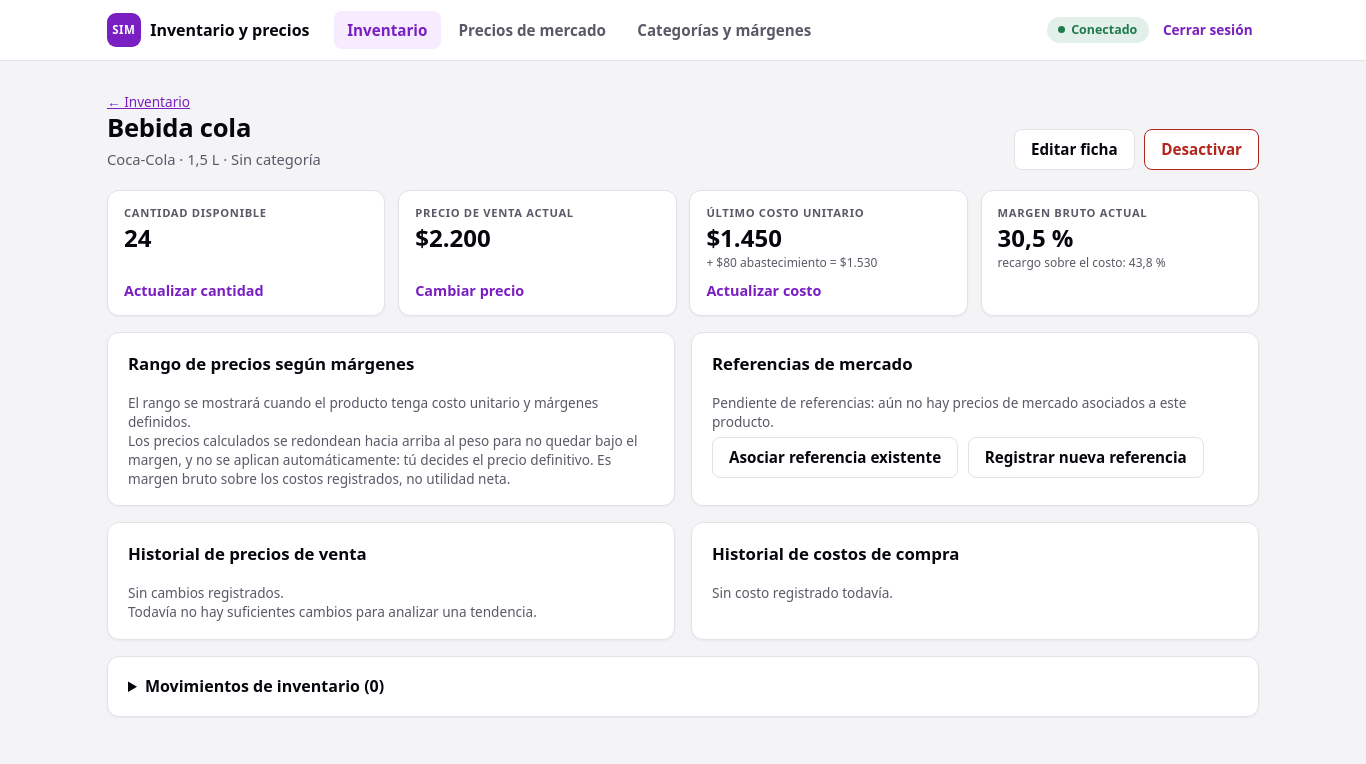
pantallas › si la sesión vence al guardar, avisa que el cambio no se guardó (H-11)
Click the button "Cambiar precio": (470, 288) [415,274,524,301]
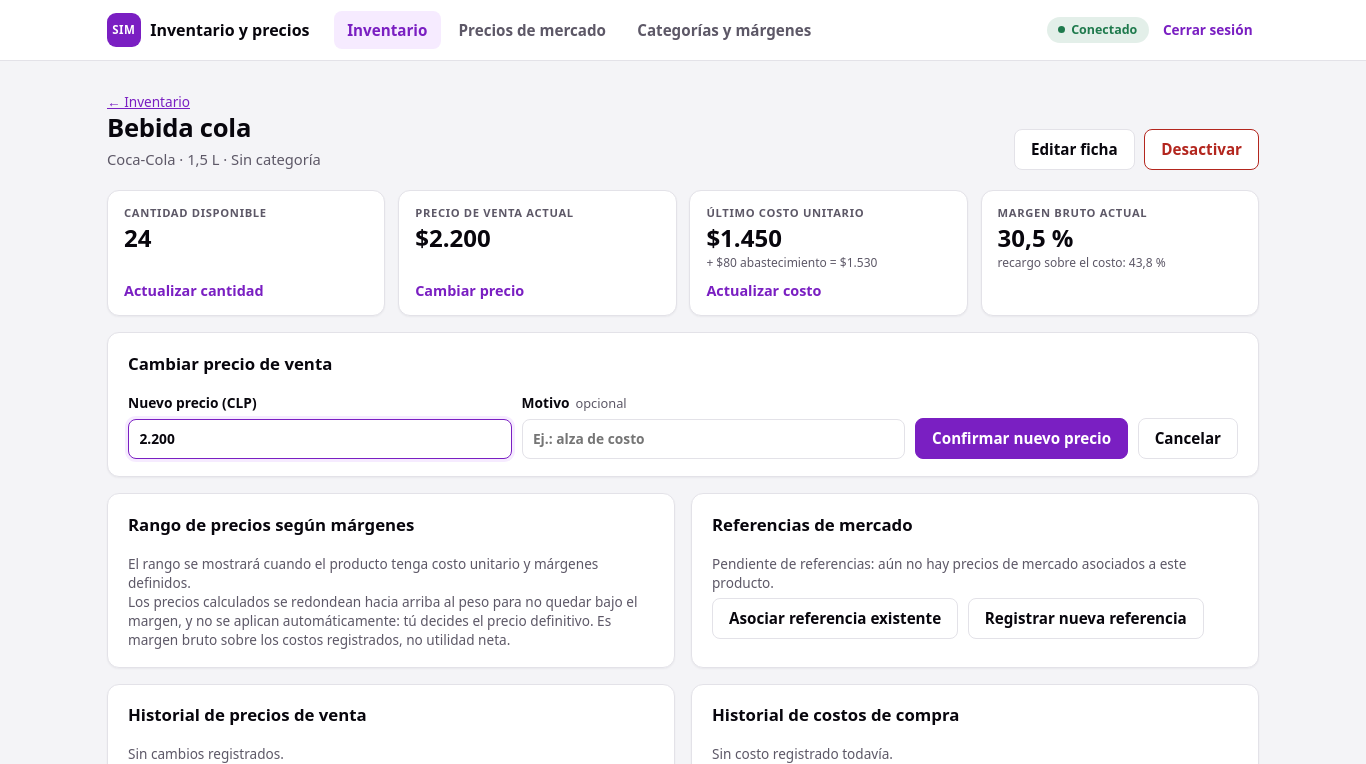
Replace the text in the field labelled "Nuevo precio (CLP)" with "2.300": (320, 439) [128,419,512,459]
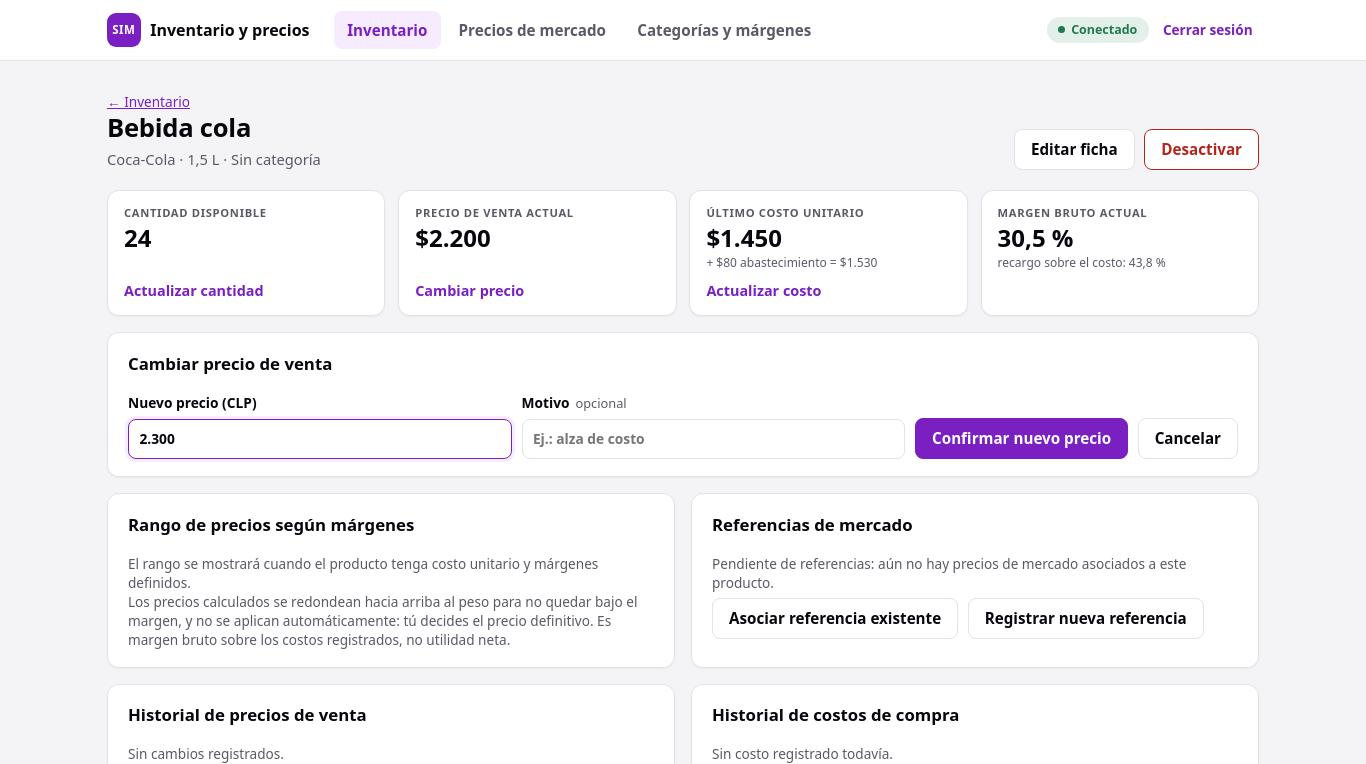
Click the button "Confirmar nuevo precio": (1022, 438) [915,418,1128,459]
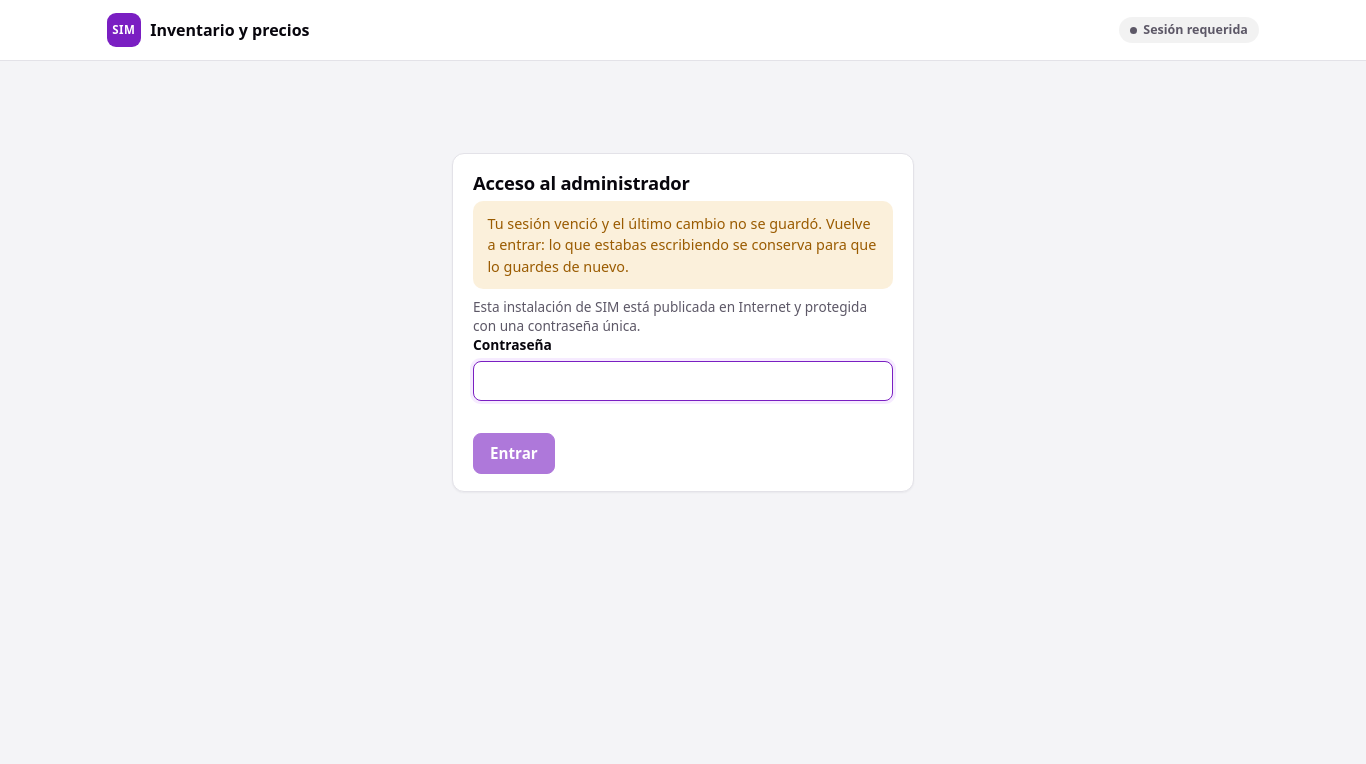
expect the text "Tu sesión venció y el último cambio no se guardó" is shown: met, box [487,214,876,276]
